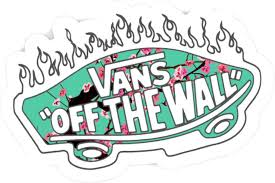vans: (87, 51, 171, 97)
